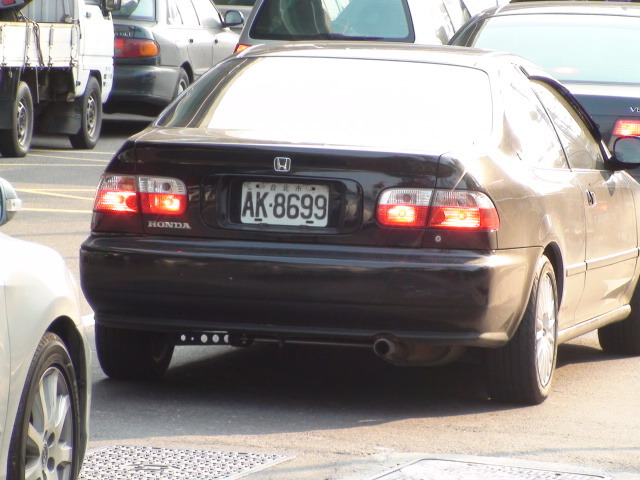plate: (239, 176, 332, 230)
